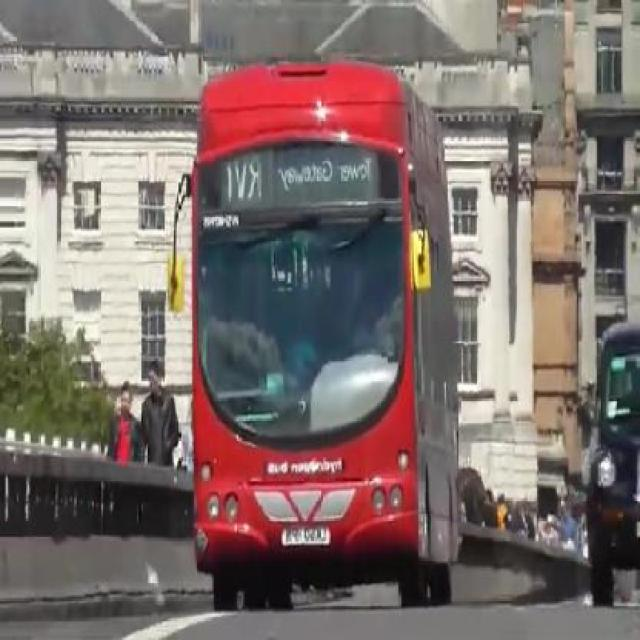bus: (190, 59, 460, 607)
